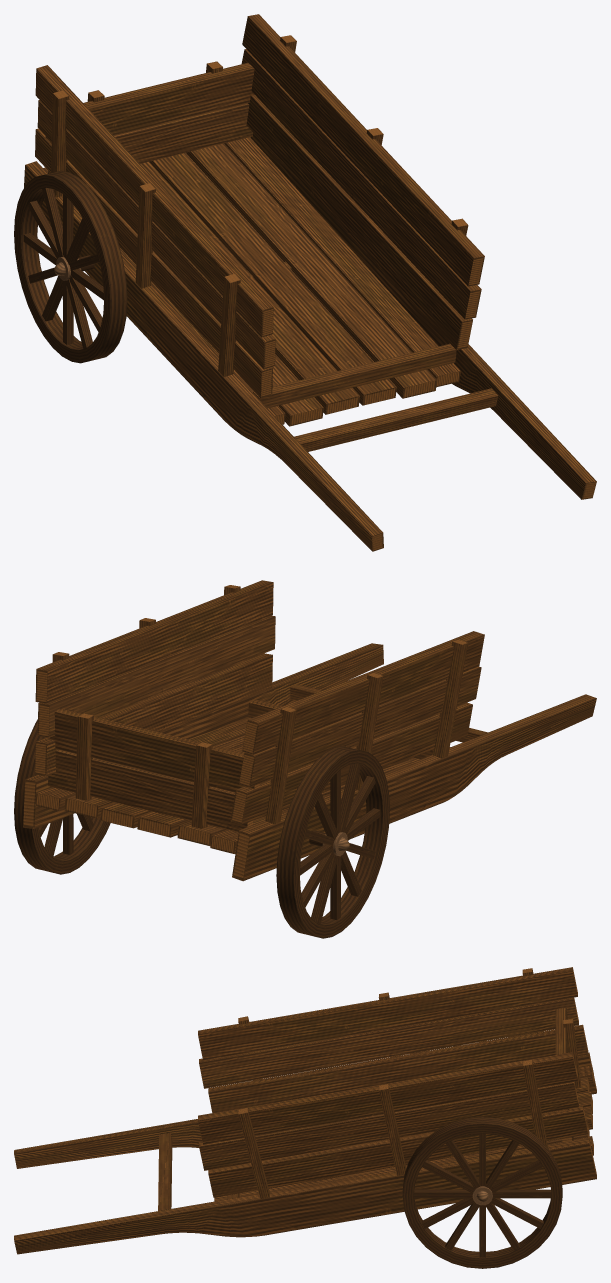
The picture shows the model from 3 angles, top to bottom: view 1: azimuth 30°, elevation 25°; view 2: azimuth 150°, elevation 25°; view 3: azimuth 270°, elevation 25°; orthographic projection. The views are drawn at different scales.
Visible parts, largest first — view 1: Prop_Wagon; view 2: Prop_Wagon; view 3: Prop_Wagon.
Part boxes in pixels (x1,y1,x2,y2): Prop_Wagon: (14, 14, 596, 551); Prop_Wagon: (14, 580, 596, 938); Prop_Wagon: (14, 967, 596, 1268).
Size of the model in its own units: 1.95 by 1.53 by 4.02.
1 material, 1 textured.
